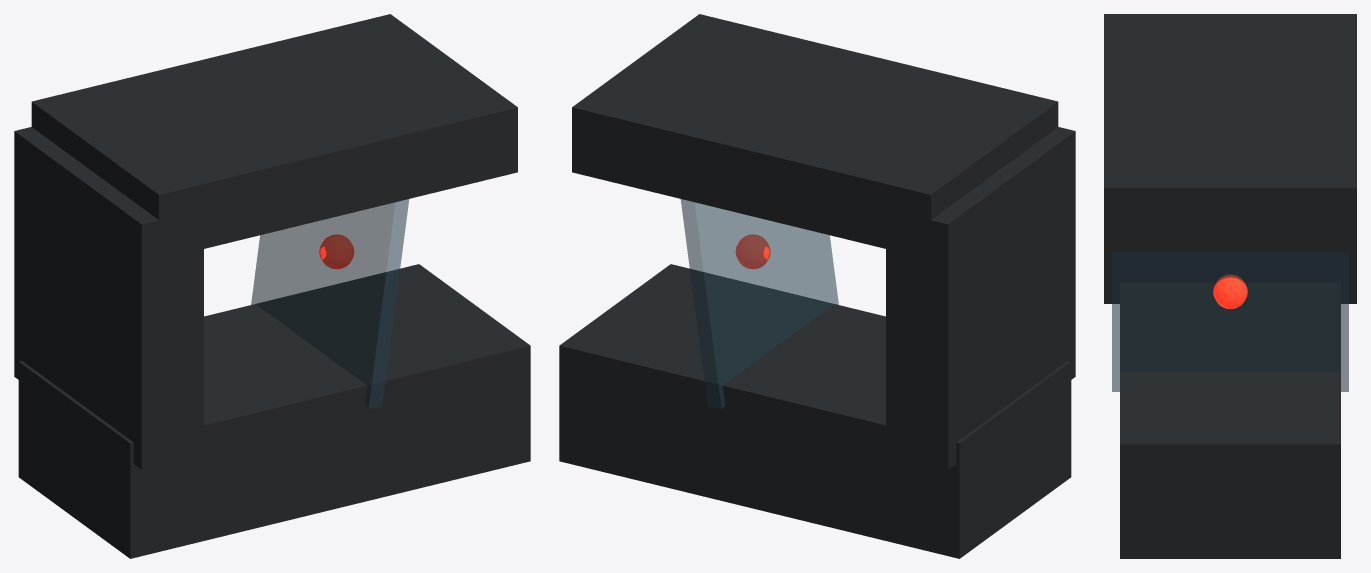
Rendered from AR15_Holo-Visier.glb.
The picture shows the model from 3 angles, left to right: view 1: azimuth 30°, elevation 25°; view 2: azimuth 150°, elevation 25°; view 3: azimuth 270°, elevation 25°; orthographic projection.
Visible parts, largest first — view 1: mod_holo; view 2: mod_holo; view 3: mod_holo.
Boxes of the visible parts, <box> form: mod_holo: <box>14,14,530,558</box>; mod_holo: <box>559,14,1075,558</box>; mod_holo: <box>1104,14,1356,558</box>.
Bounding box in the file's own units: 0.058 × 0.0505 × 0.032.
